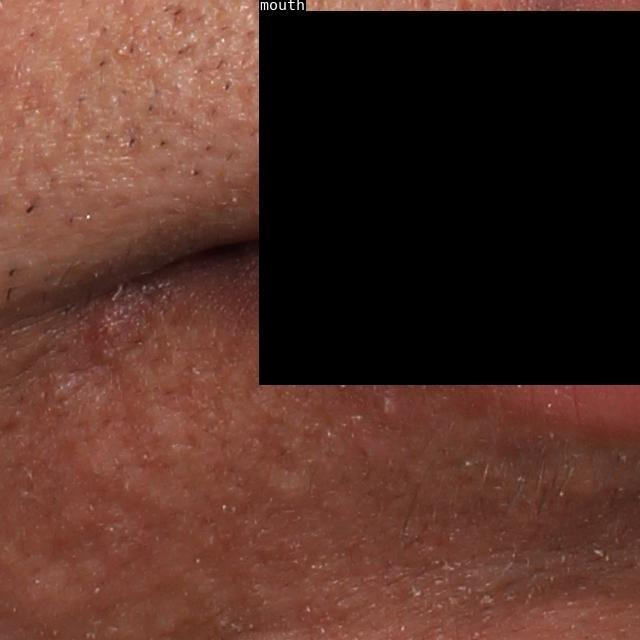hypertrophic_scar: (64, 398, 227, 539), (260, 470, 310, 499)
